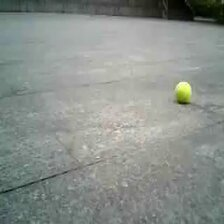tennis: (175, 82, 191, 101)
